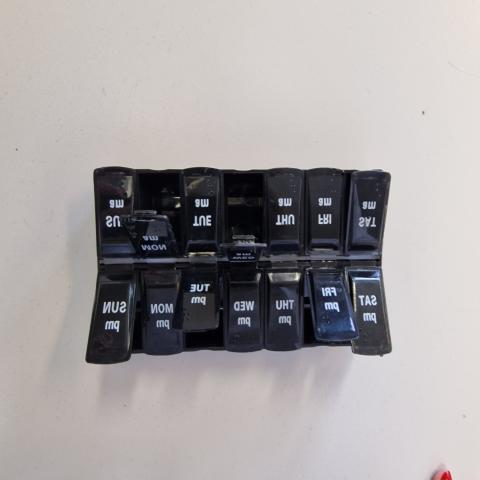Open: (121, 170, 183, 256), (171, 273, 225, 350), (303, 270, 356, 346), (224, 173, 265, 259), (129, 273, 143, 361)
